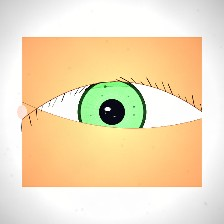pinguecula_lesion: (157, 95, 195, 126)
